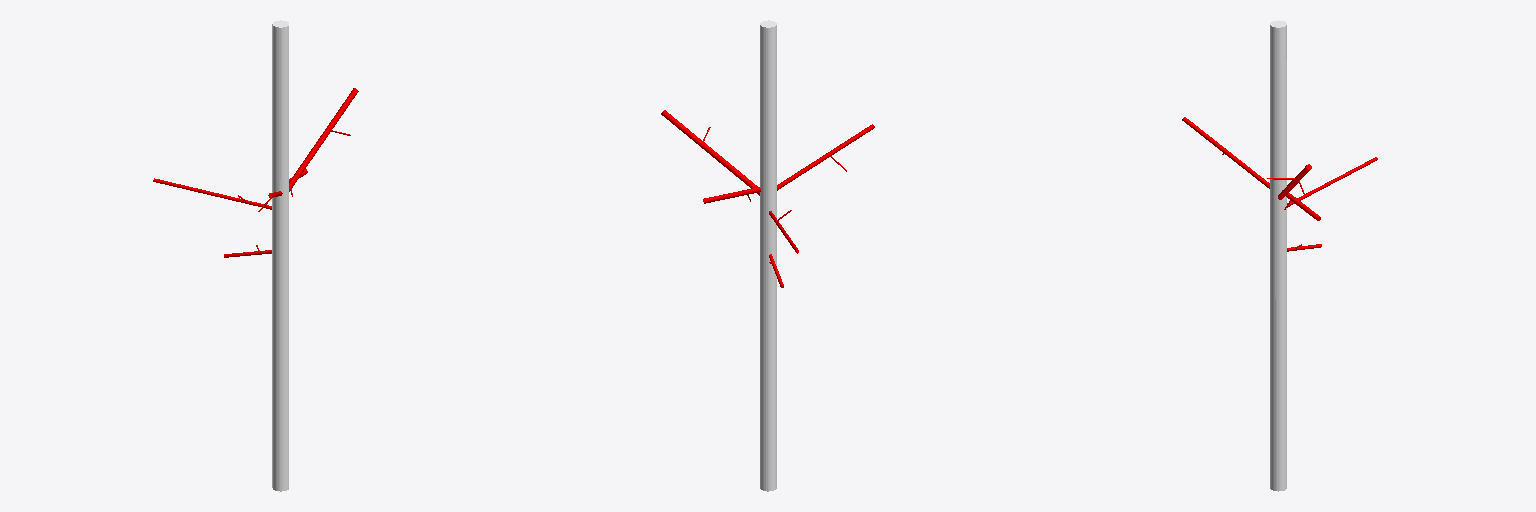
robot.urdf — tree_182.urdf:
<?xml version='1.0' encoding='UTF-8'?>
<robot name="tree_182.urdf">
  <link name="branch_0">
    <inertial>
      <origin xyz="0.0 0.0 0.0" rpy="0.0 -0.0 0.0"/>
      <mass value="0.1"/>
      <inertia ixx="0.001" ixy="0.0" ixz="0.0" iyy="0.001" iyz="0.0" izz="0.001"/>
    </inertial>
    <visual name="branch_0_visual">
      <geometry>
        <cylinder radius="0.1127510515155751" length="6.802873701271664"/>
      </geometry>
      <material name="branch_material"/>
      <origin xyz="7.500080560703711e-05 -0.00035452900747400413 3.401436831332822" rpy="3.3881317890172014e-21 0.00010653598078907979 -1.3623195402234123"/>
    </visual>
    <collision name="branch_0_collision">
      <geometry>
        <cylinder radius="0.1127510515155751" length="6.802873701271664"/>
      </geometry>
      <origin xyz="7.500080560703711e-05 -0.00035452900747400413 3.401436831332822" rpy="3.3881317890172014e-21 0.00010653598078907979 -1.3623195402234123"/>
    </collision>
  </link>
  <link name="branch_1">
    <inertial>
      <origin xyz="0.0 0.0 0.0" rpy="0.0 -0.0 0.0"/>
      <mass value="0.1"/>
      <inertia ixx="0.001" ixy="0.0" ixz="0.0" iyy="0.001" iyz="0.0" izz="0.001"/>
    </inertial>
    <visual name="branch_1_visual">
      <geometry>
        <cylinder radius="0.03149452463492261" length="1.687877089671431"/>
      </geometry>
      <material name="semantic_material"/>
      <origin xyz="0.0 0.0 0.0" rpy="0.0 -0.0 0.0"/>
    </visual>
    <collision name="branch_1_collision">
      <geometry>
        <cylinder radius="0.03149452463492261" length="1.687877089671431"/>
      </geometry>
      <origin xyz="0.0 0.0 0.0" rpy="0.0 -0.0 0.0"/>
    </collision>
  </link>
  <link name="branch_2">
    <inertial>
      <origin xyz="0.0 0.0 0.0" rpy="0.0 -0.0 0.0"/>
      <mass value="0.1"/>
      <inertia ixx="0.001" ixy="0.0" ixz="0.0" iyy="0.001" iyz="0.0" izz="0.001"/>
    </inertial>
    <visual name="branch_2_visual">
      <geometry>
        <cylinder radius="0.01" length="0.32682406928379676"/>
      </geometry>
      <material name="semantic_material"/>
      <origin xyz="0.0 0.0 0.0" rpy="0.0 -0.0 0.0"/>
    </visual>
    <collision name="branch_2_collision">
      <geometry>
        <cylinder radius="0.01" length="0.32682406928379676"/>
      </geometry>
      <origin xyz="0.0 0.0 0.0" rpy="0.0 -0.0 0.0"/>
    </collision>
  </link>
  <link name="branch_3">
    <inertial>
      <origin xyz="0.0 0.0 0.0" rpy="0.0 -0.0 0.0"/>
      <mass value="0.1"/>
      <inertia ixx="0.001" ixy="0.0" ixz="0.0" iyy="0.001" iyz="0.0" izz="0.001"/>
    </inertial>
    <visual name="branch_3_visual">
      <geometry>
        <cylinder radius="0.03470728653855761" length="0.8851202292850505"/>
      </geometry>
      <material name="semantic_material"/>
      <origin xyz="0.0 0.0 0.0" rpy="0.0 -0.0 0.0"/>
    </visual>
    <collision name="branch_3_collision">
      <geometry>
        <cylinder radius="0.03470728653855761" length="0.8851202292850505"/>
      </geometry>
      <origin xyz="0.0 0.0 0.0" rpy="0.0 -0.0 0.0"/>
    </collision>
  </link>
  <link name="branch_4">
    <inertial>
      <origin xyz="0.0 0.0 0.0" rpy="0.0 -0.0 0.0"/>
      <mass value="0.1"/>
      <inertia ixx="0.001" ixy="0.0" ixz="0.0" iyy="0.001" iyz="0.0" izz="0.001"/>
    </inertial>
    <visual name="branch_4_visual">
      <geometry>
        <cylinder radius="0.01" length="0.19939337225374965"/>
      </geometry>
      <material name="semantic_material"/>
      <origin xyz="0.0 0.0 0.0" rpy="0.0 -0.0 0.0"/>
    </visual>
    <collision name="branch_4_collision">
      <geometry>
        <cylinder radius="0.01" length="0.19939337225374965"/>
      </geometry>
      <origin xyz="0.0 0.0 0.0" rpy="0.0 -0.0 0.0"/>
    </collision>
  </link>
  <link name="branch_5">
    <inertial>
      <origin xyz="0.0 0.0 0.0" rpy="0.0 -0.0 0.0"/>
      <mass value="0.1"/>
      <inertia ixx="0.001" ixy="0.0" ixz="0.0" iyy="0.001" iyz="0.0" izz="0.001"/>
    </inertial>
    <visual name="branch_5_visual">
      <geometry>
        <cylinder radius="0.024477515375221495" length="1.781555622956858"/>
      </geometry>
      <material name="semantic_material"/>
      <origin xyz="0.0 0.0 0.0" rpy="0.0 -0.0 0.0"/>
    </visual>
    <collision name="branch_5_collision">
      <geometry>
        <cylinder radius="0.024477515375221495" length="1.781555622956858"/>
      </geometry>
      <origin xyz="0.0 0.0 0.0" rpy="0.0 -0.0 0.0"/>
    </collision>
  </link>
  <link name="branch_6">
    <inertial>
      <origin xyz="0.0 0.0 0.0" rpy="0.0 -0.0 0.0"/>
      <mass value="0.1"/>
      <inertia ixx="0.001" ixy="0.0" ixz="0.0" iyy="0.001" iyz="0.0" izz="0.001"/>
    </inertial>
    <visual name="branch_6_visual">
      <geometry>
        <cylinder radius="0.01" length="0.2600894710718603"/>
      </geometry>
      <material name="semantic_material"/>
      <origin xyz="0.0 0.0 0.0" rpy="0.0 -0.0 0.0"/>
    </visual>
    <collision name="branch_6_collision">
      <geometry>
        <cylinder radius="0.01" length="0.2600894710718603"/>
      </geometry>
      <origin xyz="0.0 0.0 0.0" rpy="0.0 -0.0 0.0"/>
    </collision>
  </link>
  <link name="branch_7">
    <inertial>
      <origin xyz="0.0 0.0 0.0" rpy="0.0 -0.0 0.0"/>
      <mass value="0.1"/>
      <inertia ixx="0.001" ixy="0.0" ixz="0.0" iyy="0.001" iyz="0.0" izz="0.001"/>
    </inertial>
    <visual name="branch_7_visual">
      <geometry>
        <cylinder radius="0.039713556853530466" length="1.8287207153484444"/>
      </geometry>
      <material name="semantic_material"/>
      <origin xyz="0.0 0.0 0.0" rpy="0.0 -0.0 0.0"/>
    </visual>
    <collision name="branch_7_collision">
      <geometry>
        <cylinder radius="0.039713556853530466" length="1.8287207153484444"/>
      </geometry>
      <origin xyz="0.0 0.0 0.0" rpy="0.0 -0.0 0.0"/>
    </collision>
  </link>
  <link name="branch_8">
    <inertial>
      <origin xyz="0.0 0.0 0.0" rpy="0.0 -0.0 0.0"/>
      <mass value="0.1"/>
      <inertia ixx="0.001" ixy="0.0" ixz="0.0" iyy="0.001" iyz="0.0" izz="0.001"/>
    </inertial>
    <visual name="branch_8_visual">
      <geometry>
        <cylinder radius="0.010896684293770503" length="0.42109781782609307"/>
      </geometry>
      <material name="semantic_material"/>
      <origin xyz="0.0 0.0 0.0" rpy="0.0 -0.0 0.0"/>
    </visual>
    <collision name="branch_8_collision">
      <geometry>
        <cylinder radius="0.010896684293770503" length="0.42109781782609307"/>
      </geometry>
      <origin xyz="0.0 0.0 0.0" rpy="0.0 -0.0 0.0"/>
    </collision>
  </link>
  <link name="branch_9">
    <inertial>
      <origin xyz="0.0 0.0 0.0" rpy="0.0 -0.0 0.0"/>
      <mass value="0.1"/>
      <inertia ixx="0.001" ixy="0.0" ixz="0.0" iyy="0.001" iyz="0.0" izz="0.001"/>
    </inertial>
    <visual name="branch_9_visual">
      <geometry>
        <cylinder radius="0.024501434697503065" length="0.799394681635907"/>
      </geometry>
      <material name="semantic_material"/>
      <origin xyz="0.0 0.0 0.0" rpy="0.0 -0.0 0.0"/>
    </visual>
    <collision name="branch_9_collision">
      <geometry>
        <cylinder radius="0.024501434697503065" length="0.799394681635907"/>
      </geometry>
      <origin xyz="0.0 0.0 0.0" rpy="0.0 -0.0 0.0"/>
    </collision>
  </link>
  <link name="branch_10">
    <inertial>
      <origin xyz="0.0 0.0 0.0" rpy="0.0 -0.0 0.0"/>
      <mass value="0.1"/>
      <inertia ixx="0.001" ixy="0.0" ixz="0.0" iyy="0.001" iyz="0.0" izz="0.001"/>
    </inertial>
    <visual name="branch_10_visual">
      <geometry>
        <cylinder radius="0.01" length="0.1182502959403647"/>
      </geometry>
      <material name="semantic_material"/>
      <origin xyz="0.0 0.0 0.0" rpy="0.0 -0.0 0.0"/>
    </visual>
    <collision name="branch_10_collision">
      <geometry>
        <cylinder radius="0.01" length="0.1182502959403647"/>
      </geometry>
      <origin xyz="0.0 0.0 0.0" rpy="0.0 -0.0 0.0"/>
    </collision>
  </link>
  <joint name="joint_0_1" type="fixed">
    <parent link="branch_0"/>
    <child link="branch_1"/>
    <axis xyz="1. 0. 0."/>
    <origin xyz="-0.4428804586350659 -0.6316580125667806 4.662042601786329" rpy="-0.0001917869886117507 1.1523831251492924 -2.1829328886649058"/>
  </joint>
  <joint name="joint_0_3" type="fixed">
    <parent link="branch_0"/>
    <child link="branch_3"/>
    <axis xyz="1. 0. 0."/>
    <origin xyz="0.3430343465677083 0.27016908796295647 4.332428658899314" rpy="3.140995895400495 1.4101063152610502 -2.474108836061378"/>
  </joint>
  <joint name="joint_0_5" type="fixed">
    <parent link="branch_0"/>
    <child link="branch_5"/>
    <axis xyz="1. 0. 0."/>
    <origin xyz="-0.5995982562222193 0.6509643974863466 4.171402934435552" rpy="-0.0004955752822066554 1.4608587629695315 2.3143942829305972"/>
  </joint>
  <joint name="joint_0_7" type="fixed">
    <parent link="branch_0"/>
    <child link="branch_7"/>
    <axis xyz="1. 0. 0."/>
    <origin xyz="0.6949276339911383 0.2016144846036629 4.794414819164144" rpy="0.00017379020060730936 0.9130814656195531 0.283212342509484"/>
  </joint>
  <joint name="joint_0_9" type="fixed">
    <parent link="branch_0"/>
    <child link="branch_9"/>
    <axis xyz="1. 0. 0."/>
    <origin xyz="-0.2700209626183223 0.2807015371996306 3.38818273421812" rpy="-3.1413378894905937 1.3478754811336797 -0.805030974283015"/>
  </joint>
  <joint name="joint_1_2" type="fixed">
    <parent link="branch_0"/>
    <child link="branch_2"/>
    <axis xyz="1. 0. 0."/>
    <origin xyz="-0.6421993748816449 -0.7326489053467126 4.619199849836337" rpy="-2.3295536920294113 0.5868910792407495 1.143546129757489"/>
  </joint>
  <joint name="joint_3_4" type="fixed">
    <parent link="branch_0"/>
    <child link="branch_4"/>
    <axis xyz="1. 0. 0."/>
    <origin xyz="0.2285766034536817 0.12983412719779008 4.270207517827109" rpy="-2.709462282695805 -0.33325507107398855 -2.5533350707384384"/>
  </joint>
  <joint name="joint_5_6" type="fixed">
    <parent link="branch_0"/>
    <child link="branch_6"/>
    <axis xyz="1. 0. 0."/>
    <origin xyz="-0.41176419823030885 0.30586367392023994 4.2101462423843445" rpy="0.8678403776482239 -0.0741202425491231 -1.0436512985212707"/>
  </joint>
  <joint name="joint_7_8" type="fixed">
    <parent link="branch_0"/>
    <child link="branch_8"/>
    <axis xyz="1. 0. 0."/>
    <origin xyz="0.9316145385729366 0.05314924772615605 4.968329645952581" rpy="-1.402928912491822 0.6478261336216519 -2.771145133148104"/>
  </joint>
  <joint name="joint_9_10" type="fixed">
    <parent link="branch_0"/>
    <child link="branch_10"/>
    <axis xyz="1. 0. 0."/>
    <origin xyz="-0.1970343555940443 0.2578818427641622 3.4434621909762058" rpy="-0.8803502832674518 -0.5211898411483822 -0.4681191368614126"/>
  </joint>
  <material name="branch_material">
    <color rgba="1. 1. 1. 1."/>
  </material>
  <material name="semantic_material">
    <color rgba="1. 0. 0. 1."/>
  </material>
</robot>

--- What the picture shows (computed from the rendered views, not written in the file) ---
3 views of the same robot in one strip: view 1: azimuth 30°, elevation 25°; view 2: azimuth 150°, elevation 25°; view 3: azimuth 270°, elevation 25° (orthographic).
Robot: tree_182.urdf — 11 links, 10 joints (10 fixed); root link branch_0; default pose: all joints at 0.
Links seen in each view (by area): view 1: branch_0, branch_7; view 2: branch_0, branch_7, branch_1; view 3: branch_0.
Boxes of the visible links, x1=… form: branch_0: x1=272, y1=20, x2=288, y2=491; branch_7: x1=289, y1=88, x2=358, y2=191; branch_0: x1=760, y1=20, x2=776, y2=491; branch_7: x1=661, y1=110, x2=759, y2=195; branch_1: x1=777, y1=124, x2=874, y2=190; branch_0: x1=1270, y1=20, x2=1286, y2=491.
Bounding box of the posed robot: 2.63 × 2.6 × 6.8 m (x, y, z).
Geometry: primitives only (box / cylinder / sphere), no mesh files.
